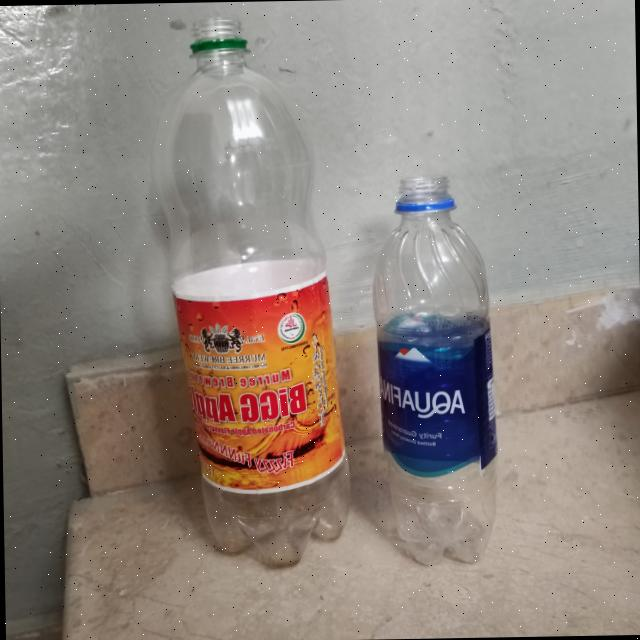bottle: (160, 11, 348, 568), (359, 178, 502, 566)
label: (171, 267, 326, 503), (373, 318, 497, 490)
